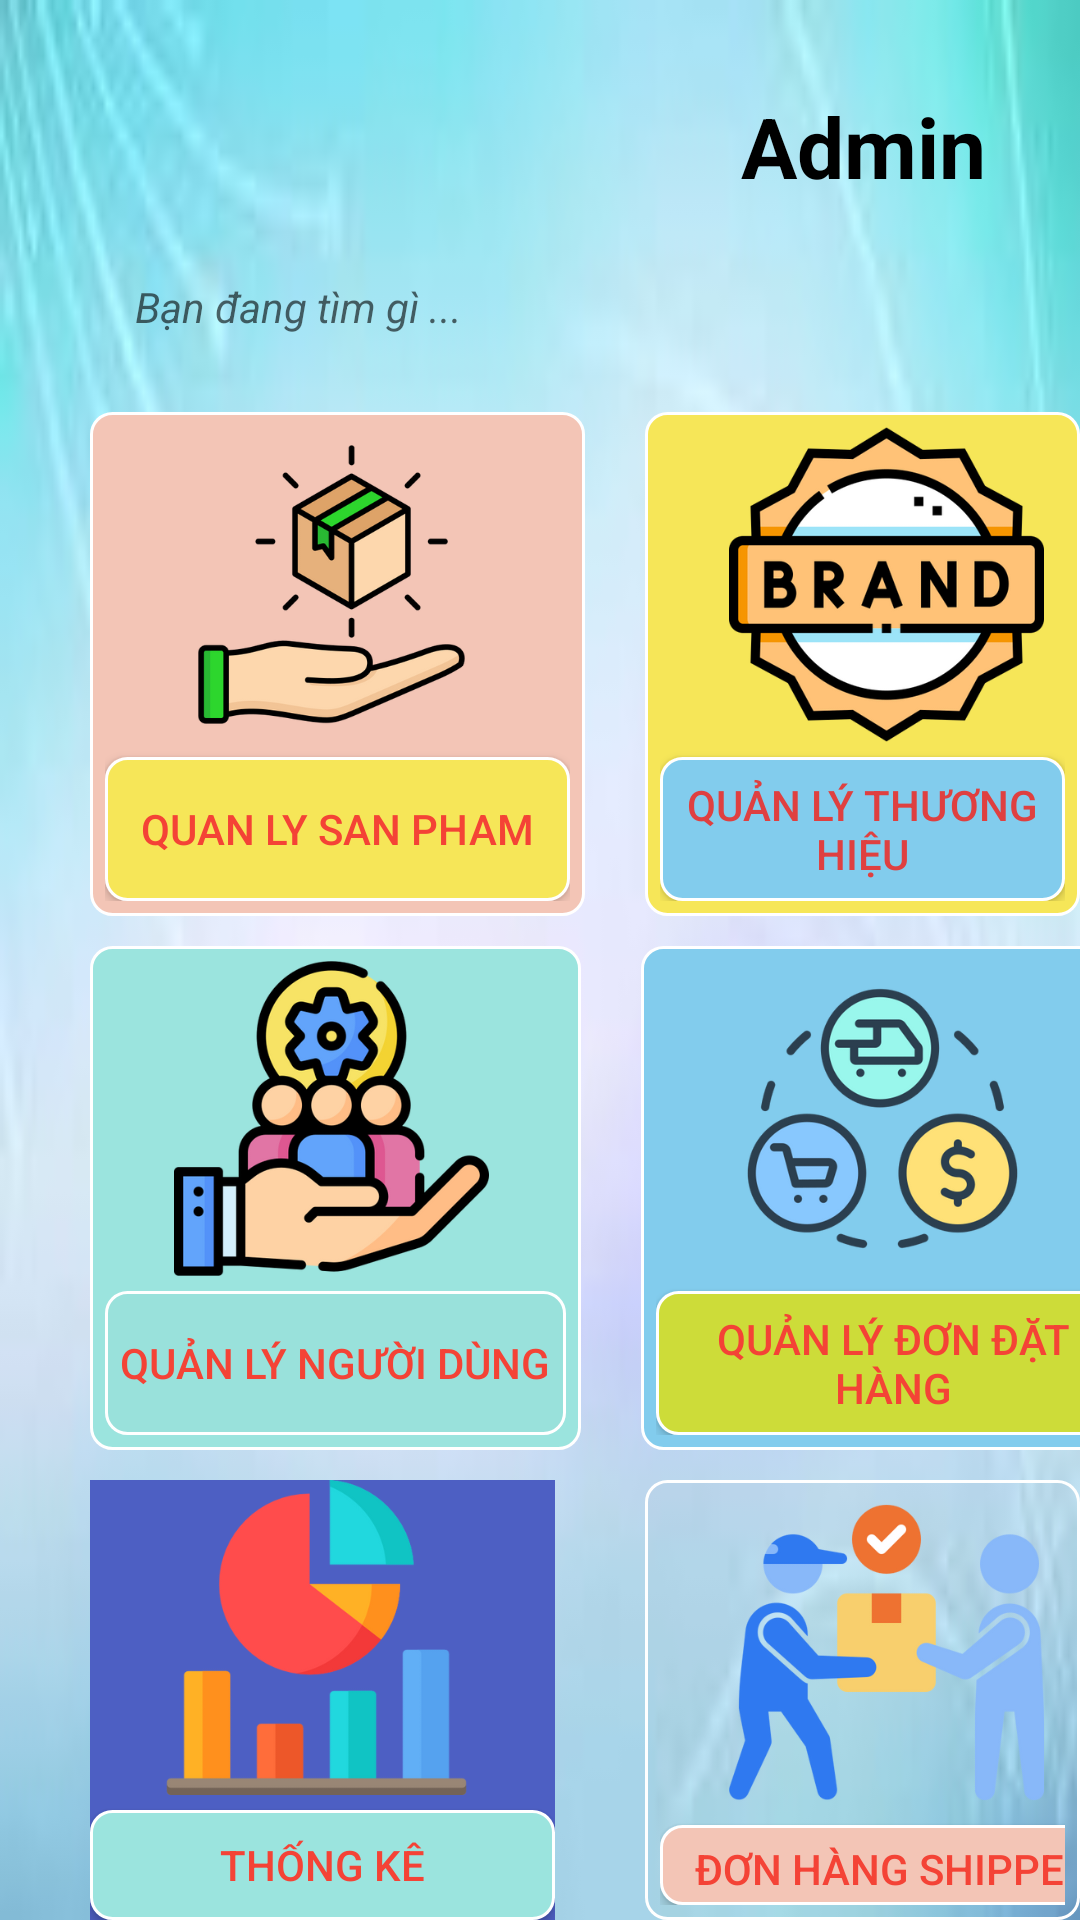

Screen size 1080w x 1920h. Icon name, then its box in pixels as (x1, y1, x2, y2):
business: (747, 989, 1018, 1248)
offer: (198, 445, 465, 724)
recieved: (729, 1505, 1044, 1810)
team management: (174, 961, 489, 1276)
